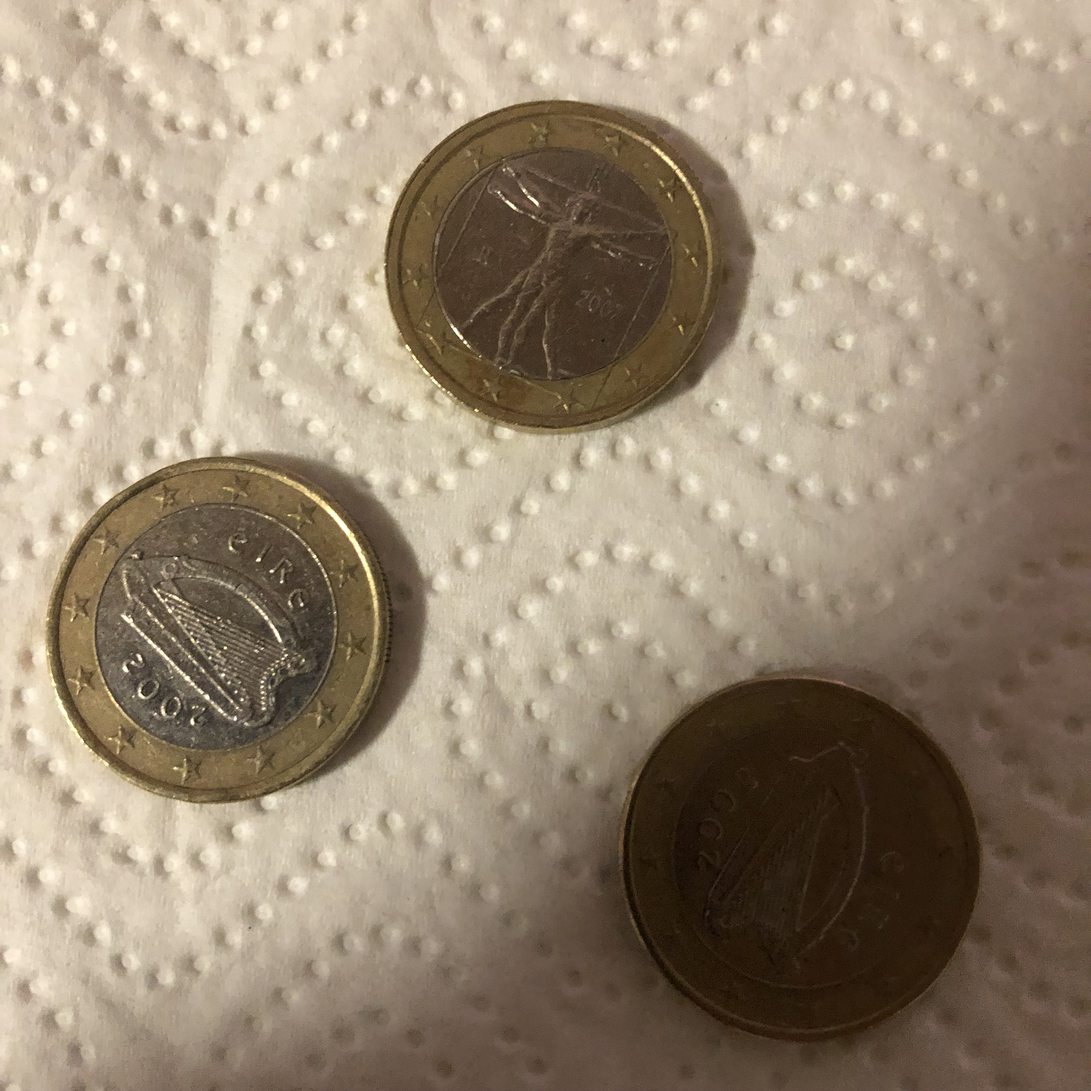1 euro: (615, 673, 991, 1041), (377, 82, 732, 438), (49, 444, 403, 800)
